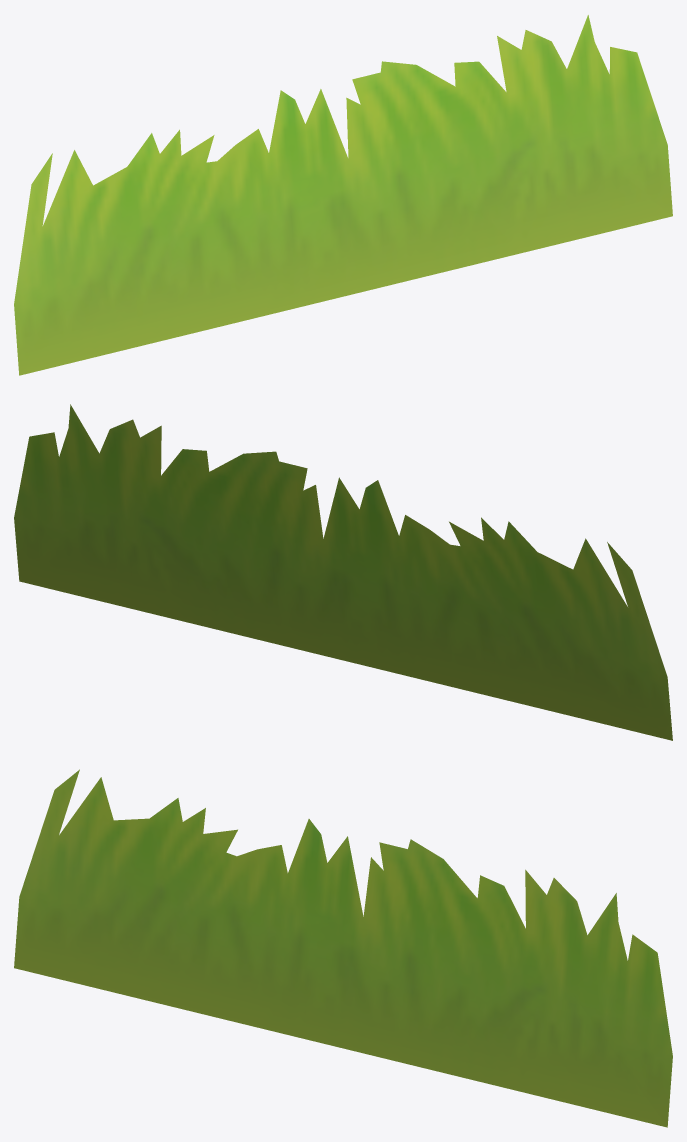
File: OM_S01_ny_grassA.fbx
3 views of the same model, one above another, from view 1: azimuth 30°, elevation 25°; view 2: azimuth 150°, elevation 25°; view 3: azimuth 330°, elevation 25° (orthographic).
Visible parts, largest first — view 1: OM_S01_ny_grassA; view 2: OM_S01_ny_grassA; view 3: OM_S01_ny_grassA.
Boxes of the visible parts, x1,y1,x2,y2 form: OM_S01_ny_grassA: (14,15,672,375); OM_S01_ny_grassA: (14,404,672,740); OM_S01_ny_grassA: (14,769,672,1127).
Bounding box in the file's own units: 230 × 70.47 × 10.39.
